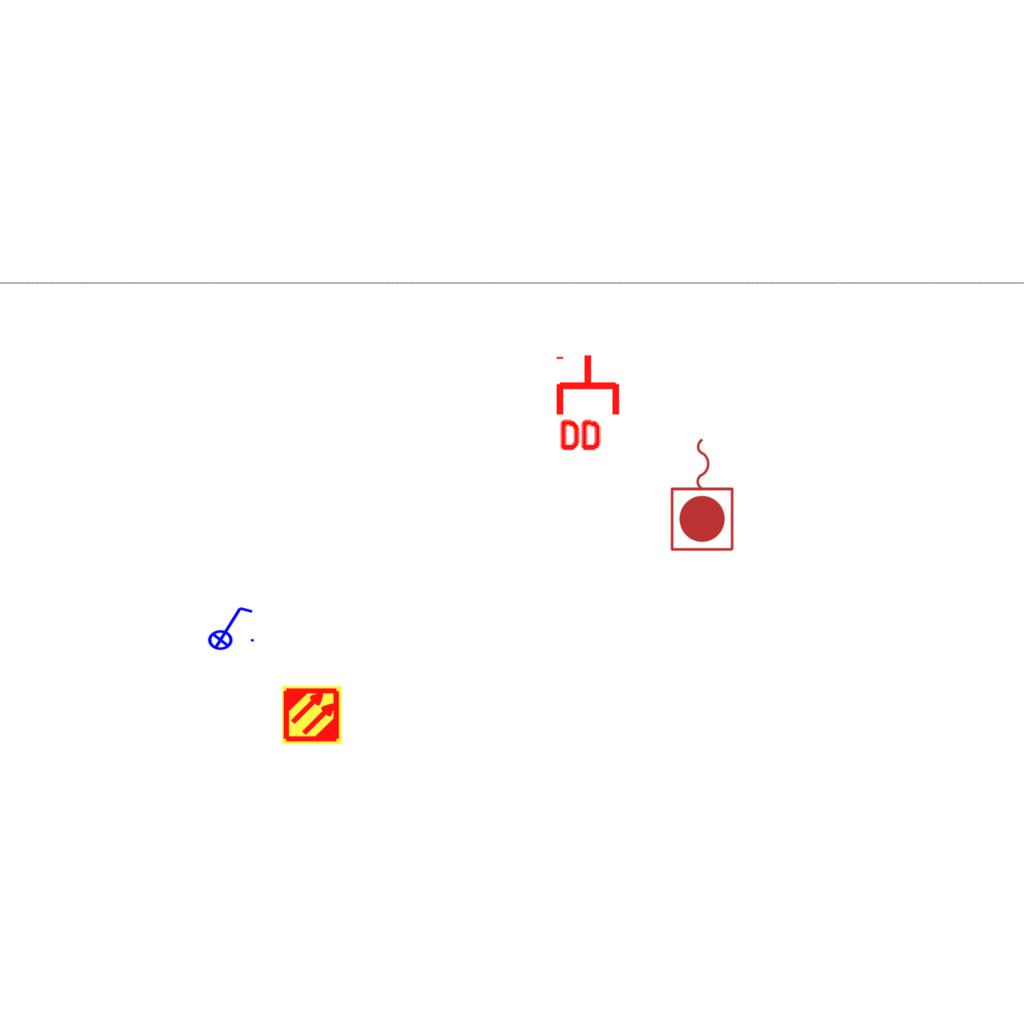ASR_Ansaugrauchmelder: (281, 684, 343, 746)
Ausschalter_beleuchtet: (201, 603, 257, 651)
Datenanschluss_zweifach: (555, 352, 624, 455)
Zugtaster: (667, 433, 739, 555)
